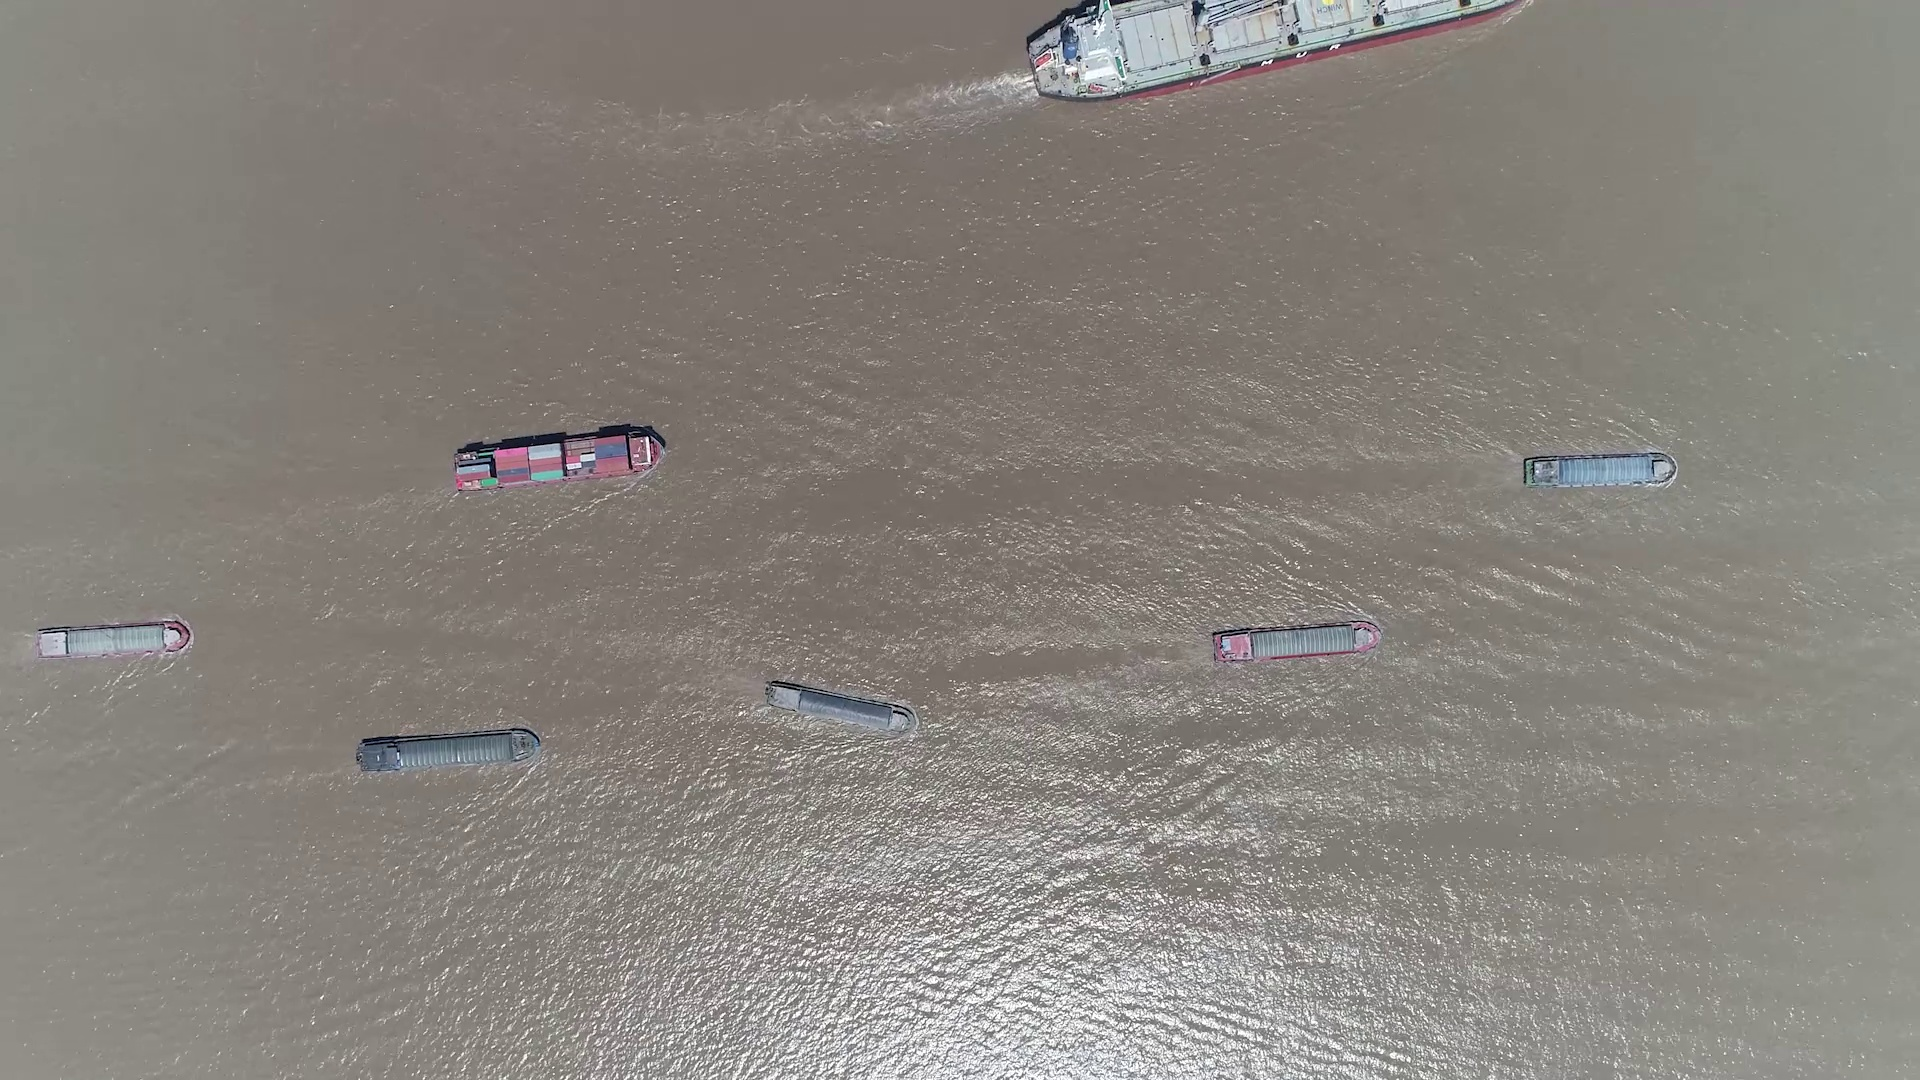ship: (1025, 1, 1513, 102), (454, 427, 665, 493), (762, 680, 916, 735), (357, 728, 541, 771), (1212, 620, 1381, 663), (34, 621, 190, 659), (1523, 454, 1675, 488)
